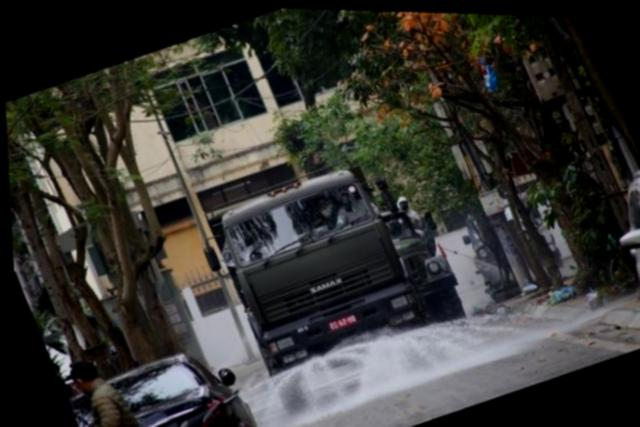License_Plate: (328, 310, 358, 331)
